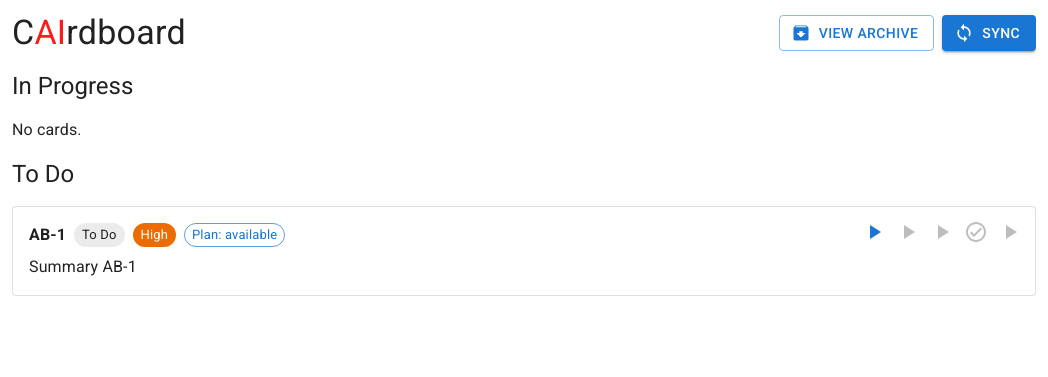
Scenario: a failed start shows the error and no spinner
What coordinates should you click on to do the following:
click the button named "Plan"
I would click on:
 (874, 232)
Its box is [857,215,891,249].
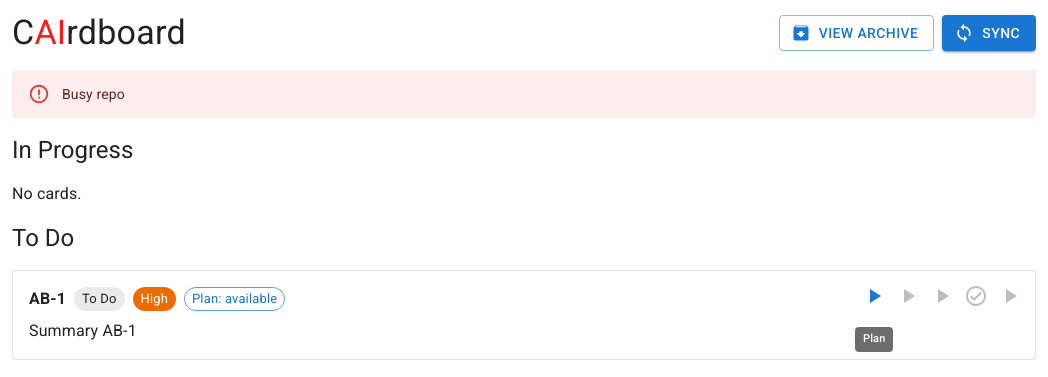
Expected: the text "Busy repo" is shown, [62,86,125,102]
